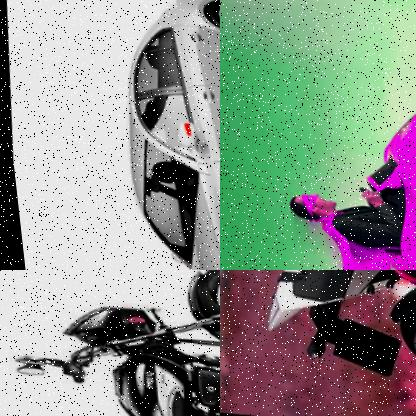bike: (0, 270, 220, 416), (220, 270, 416, 390)
car: (92, 0, 220, 270), (344, 98, 416, 270)
